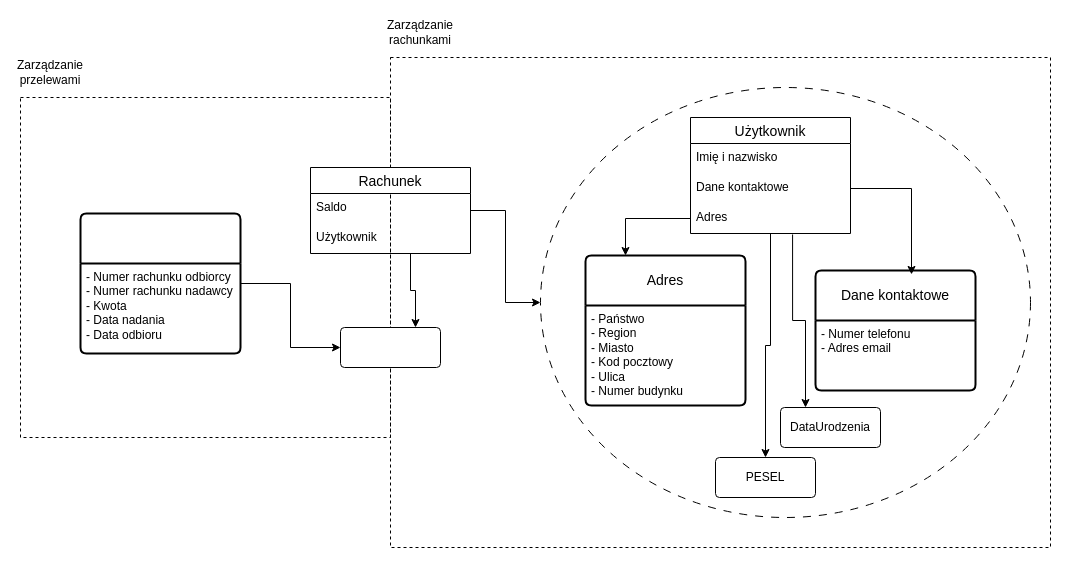
Some shapes in this 1068 by 565 pixel diagram are drawn without their labels. Here are the shapes that lost their labels. From the top down, the box of each, then its label:
(79, 212, 241, 354): Przelew
(340, 326, 440, 368): Numer rachunku
